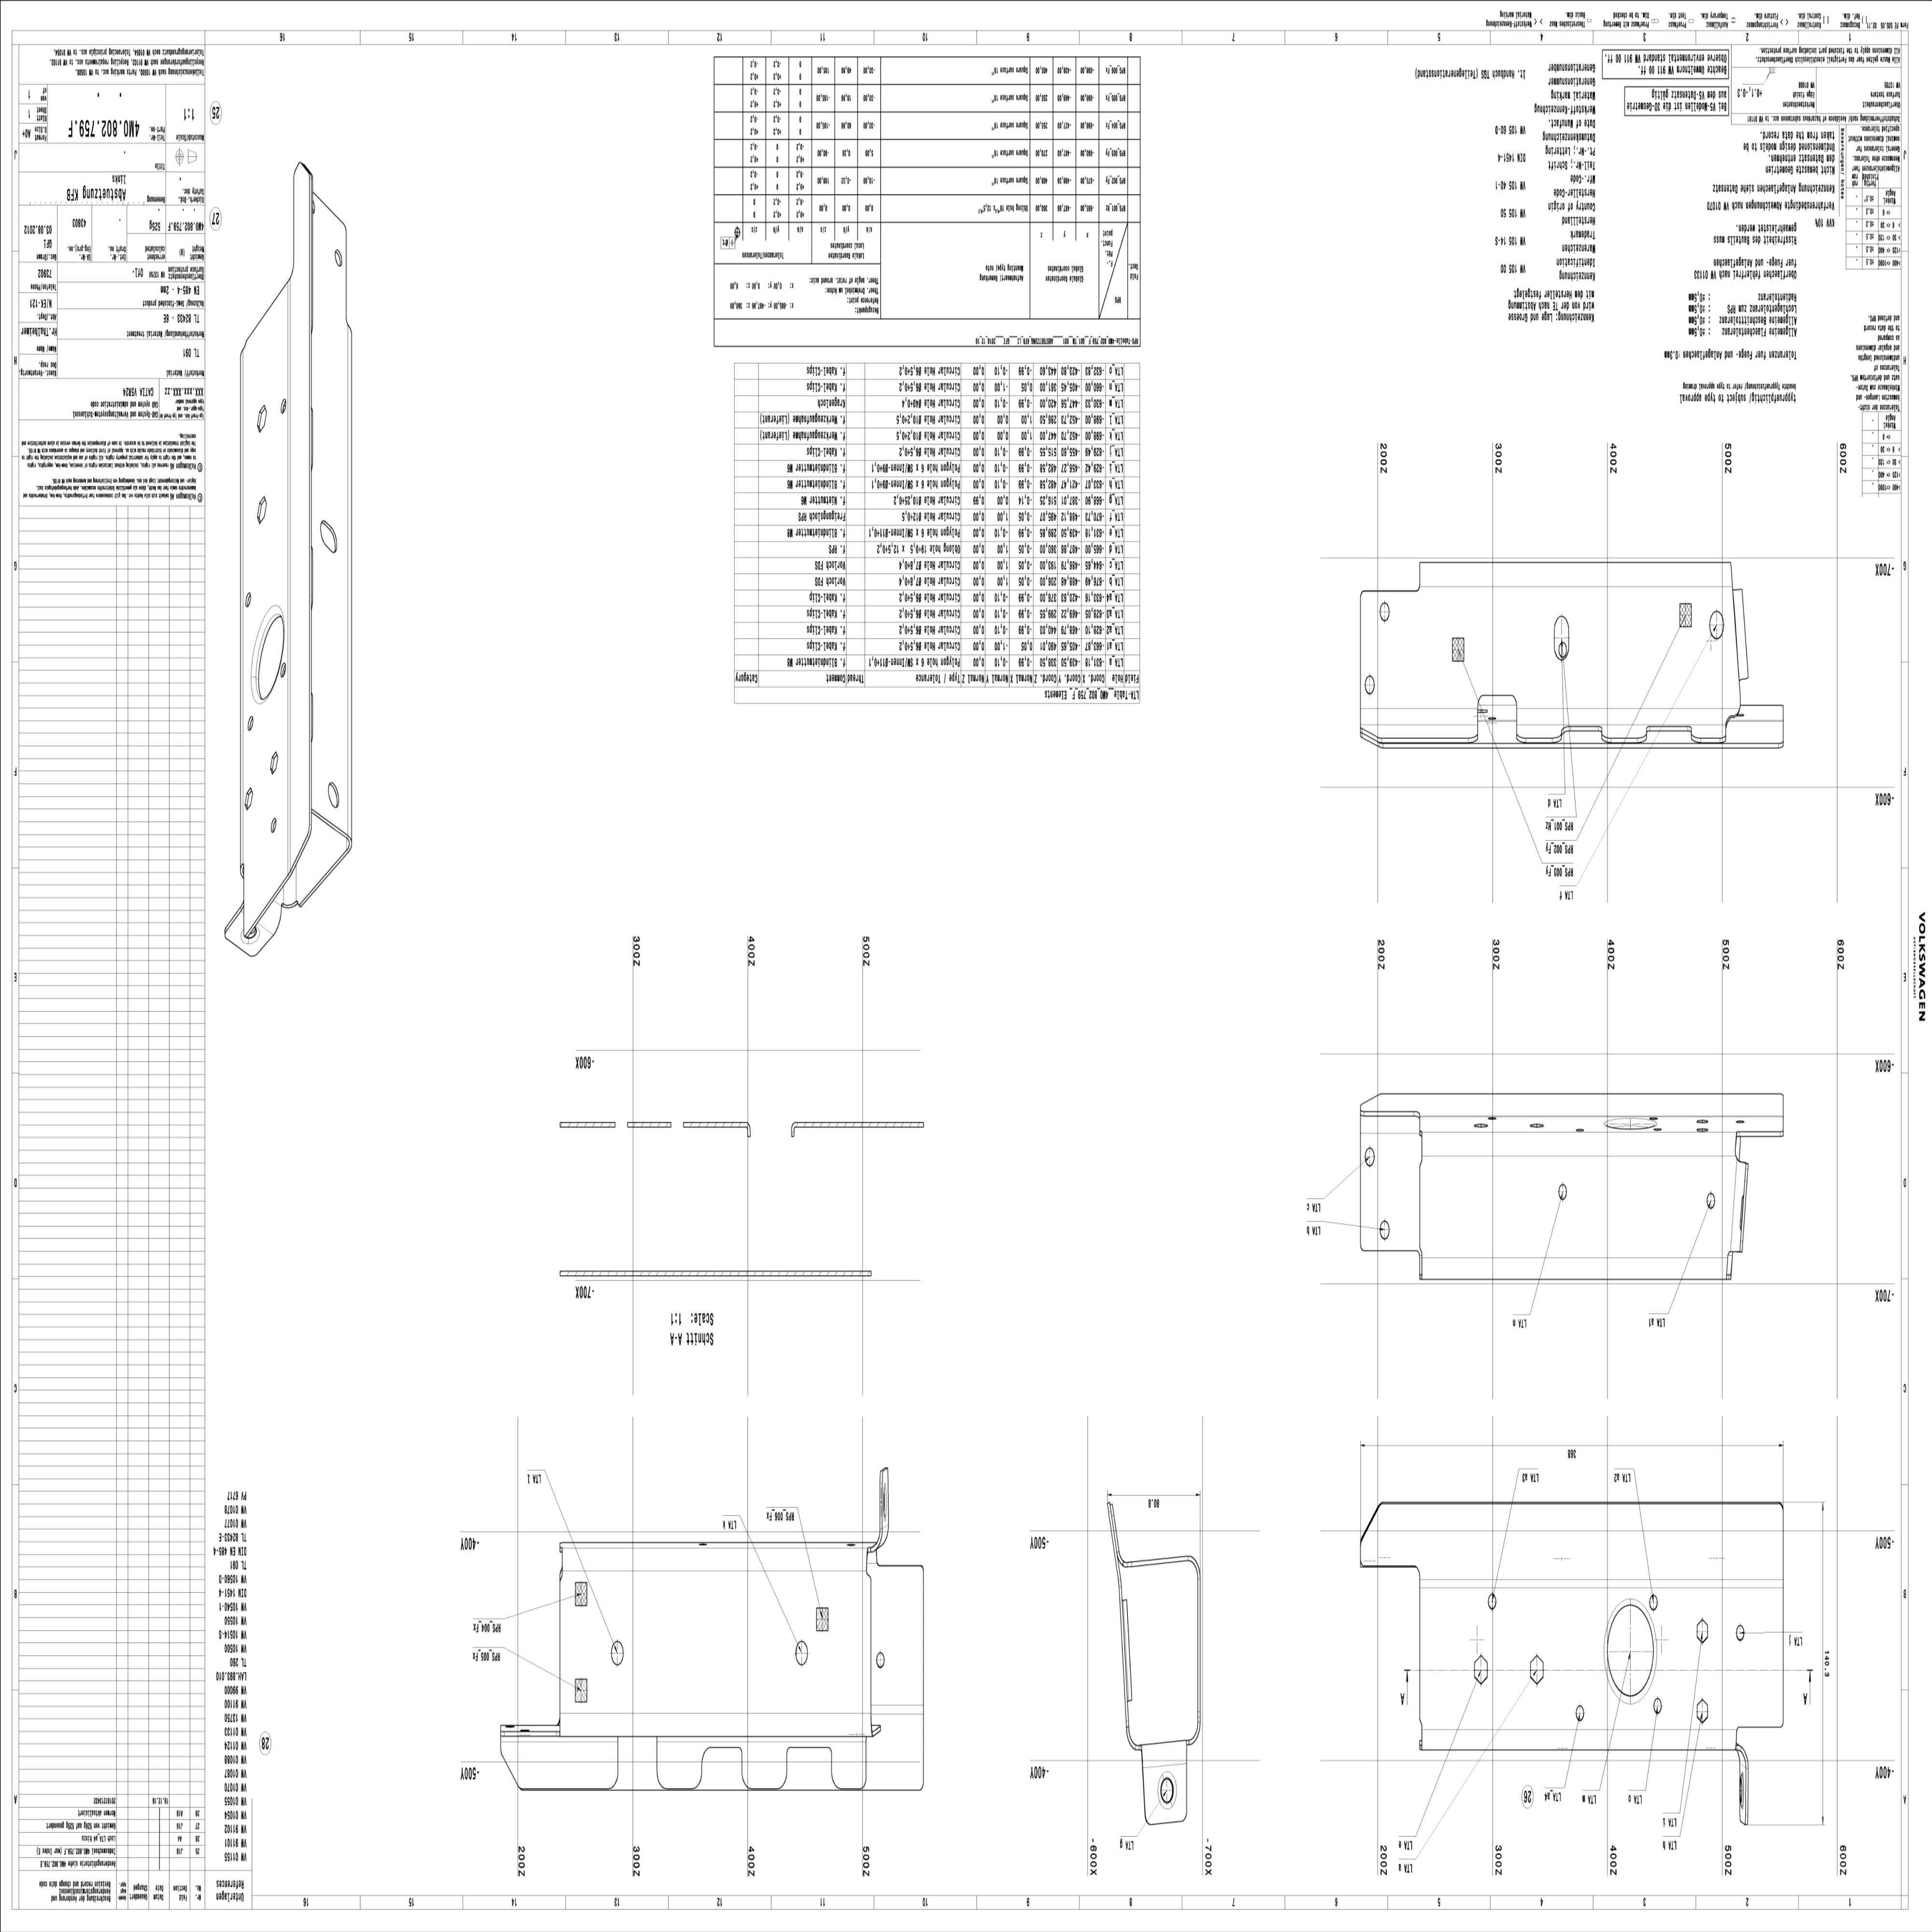BendingEdge: (564, 1545, 863, 1573), (1421, 561, 1729, 587), (1422, 1725, 1739, 1748), (1422, 1254, 1732, 1277), (1421, 1576, 1782, 1589), (285, 287, 292, 863), (1522, 706, 1725, 725), (347, 331, 354, 821), (239, 359, 244, 862), (1362, 706, 1476, 725), (1419, 1131, 1734, 1134)
BendingEdgeCurve: (869, 1523, 892, 1553), (1185, 1553, 1203, 1582), (1125, 1727, 1141, 1750), (1734, 1744, 1750, 1767), (1187, 1721, 1201, 1746), (1116, 1550, 1129, 1568), (280, 899, 297, 911)
InnerContour: (1552, 614, 1571, 662), (318, 517, 340, 556), (1709, 609, 1727, 640), (326, 778, 341, 812), (791, 1638, 809, 1668), (609, 1640, 625, 1665), (1376, 602, 1392, 623), (1362, 674, 1376, 695), (1378, 1219, 1391, 1240), (1651, 1695, 1663, 1716), (1484, 1592, 1499, 1610), (333, 246, 343, 269), (1362, 1146, 1375, 1166), (1573, 1704, 1585, 1721), (1734, 1624, 1746, 1642), (1647, 1594, 1660, 1612), (874, 1651, 886, 1668), (1557, 1182, 1568, 1201), (1706, 1191, 1716, 1210), (267, 817, 278, 835), (246, 715, 257, 732), (244, 591, 253, 609), (280, 398, 287, 416), (280, 663, 287, 679), (1575, 1129, 1585, 1134), (1736, 1120, 1744, 1123)
InnerContourAngular: (1527, 1652, 1546, 1686), (1470, 1654, 1490, 1686), (255, 494, 269, 527), (1693, 1617, 1711, 1644), (255, 403, 267, 433), (1695, 1698, 1709, 1723), (267, 750, 281, 775), (244, 787, 255, 810), (1472, 1122, 1488, 1131), (1695, 1127, 1709, 1134), (1530, 1122, 1543, 1129), (1695, 1120, 1709, 1125)
Notch: (780, 1743, 840, 1796), (692, 1744, 754, 1792), (1476, 692, 1520, 736), (1645, 724, 1693, 743), (1560, 725, 1603, 740)
ThroughHole: (1603, 1596, 1660, 1706), (244, 602, 290, 708), (1157, 1771, 1178, 1810), (1603, 1116, 1658, 1131), (241, 924, 260, 945), (883, 1483, 888, 1522)
ThroughHoleExternal: (1737, 1771, 1746, 1806), (1739, 1194, 1746, 1231)
